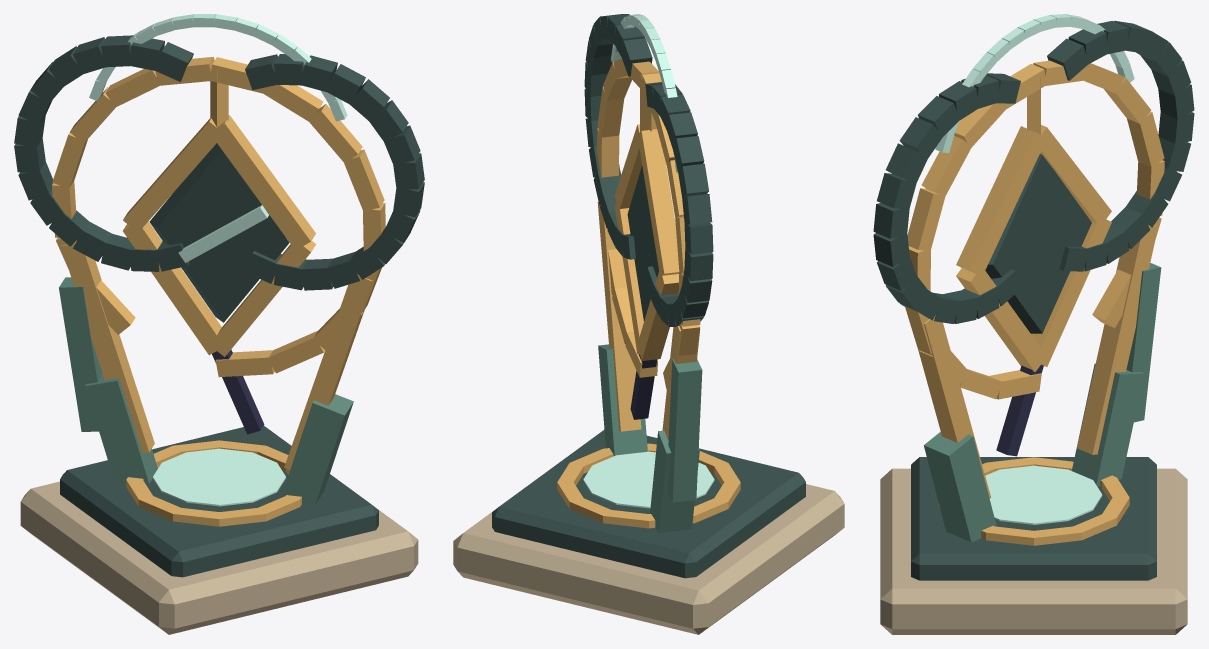
The model's file is Tower_GaleTalismanL2.fbx.
3 renders of one model, left to right at view 1: azimuth 30°, elevation 25°; view 2: azimuth 150°, elevation 25°; view 3: azimuth 270°, elevation 25°, orthographic. The views are drawn at different scales.
Visible parts, largest first — view 1: Tower_GaleTalismanL2; view 2: Tower_GaleTalismanL2; view 3: Tower_GaleTalismanL2.
Boxes of the visible parts, x1=… form: Tower_GaleTalismanL2: x1=14, y1=14, x2=424, y2=634; Tower_GaleTalismanL2: x1=453, y1=14, x2=844, y2=634; Tower_GaleTalismanL2: x1=873, y1=14, x2=1194, y2=634.
Bounding box in the file's own units: 0.9394 × 1.78 × 0.9394.
